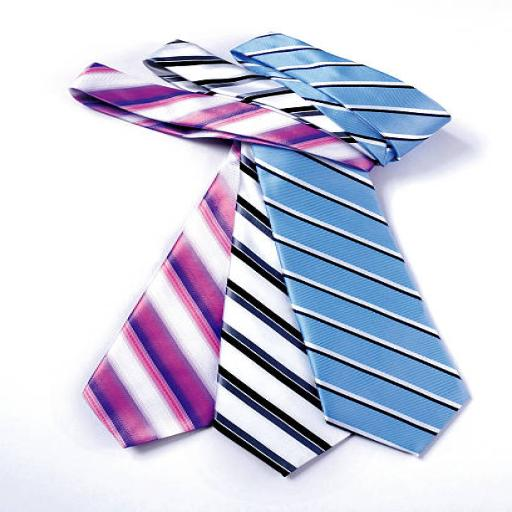tie: (226, 30, 474, 467), (143, 36, 351, 481), (58, 54, 237, 452)
